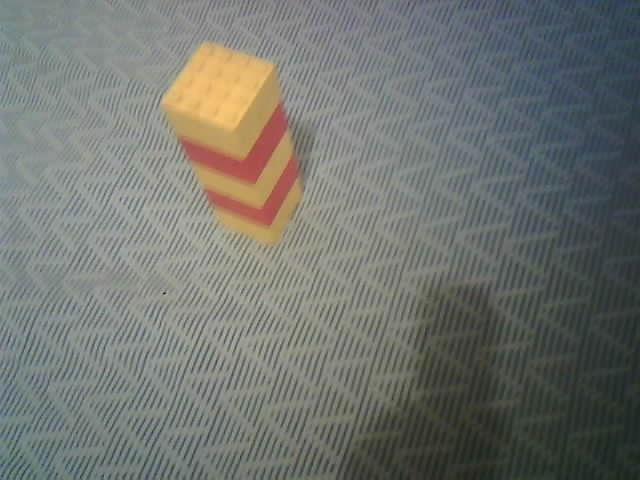lego: (160, 40, 306, 246)
